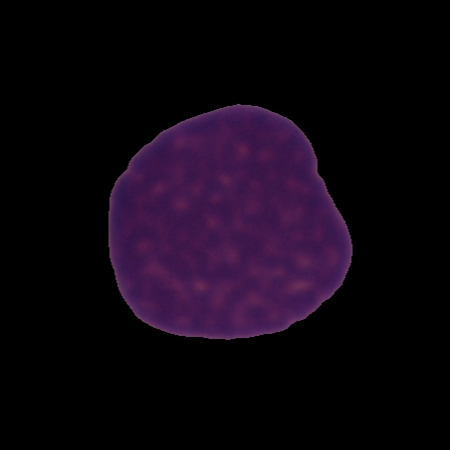HEM: (105, 101, 356, 342)
